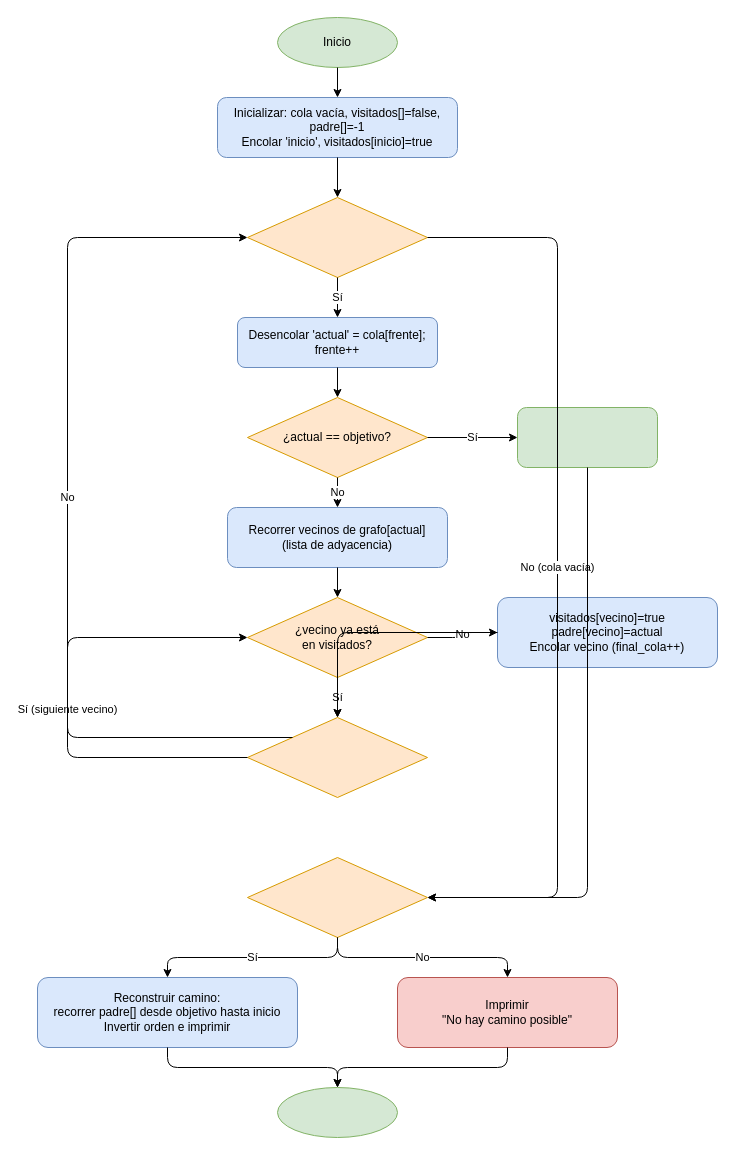
Image size: 735x1155. Some labels were removed from this diagram. The box of each missing label's shape, as (x1, y1, x2, y2) in pixels:
encontrado = true break: (516, 406, 658, 468)
Fin: (276, 1086, 398, 1138)
¿Cola no vacía? (frente < final_cola): (246, 196, 428, 278)
¿encontrado?: (246, 856, 428, 938)
¿Quedan más vecinos?: (246, 716, 428, 798)
